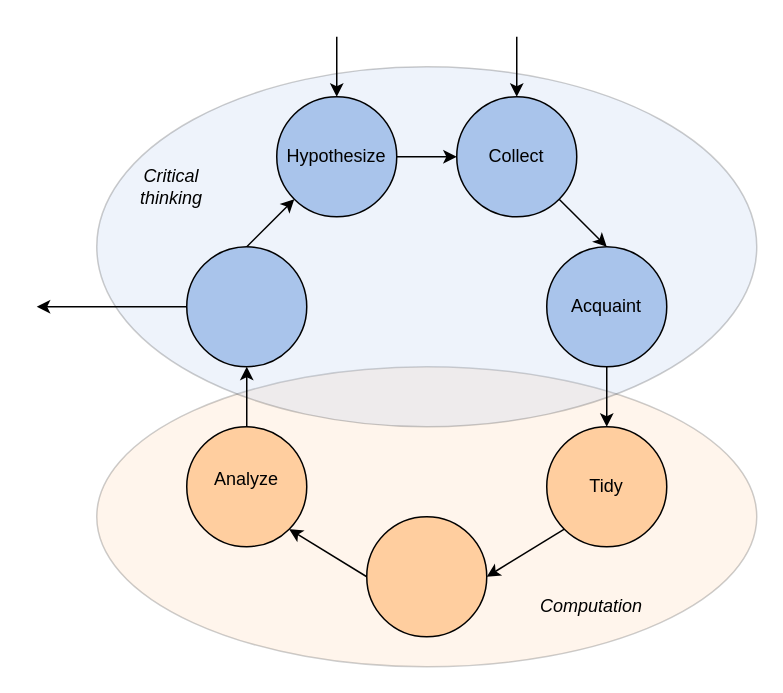
This 783x693 diagram has some shape labels left out. Here are the shapes that lost their labels. From the top down, the centre of each, then its label:
At (246,306): "Interpret".
At (426,576): "Explore".
